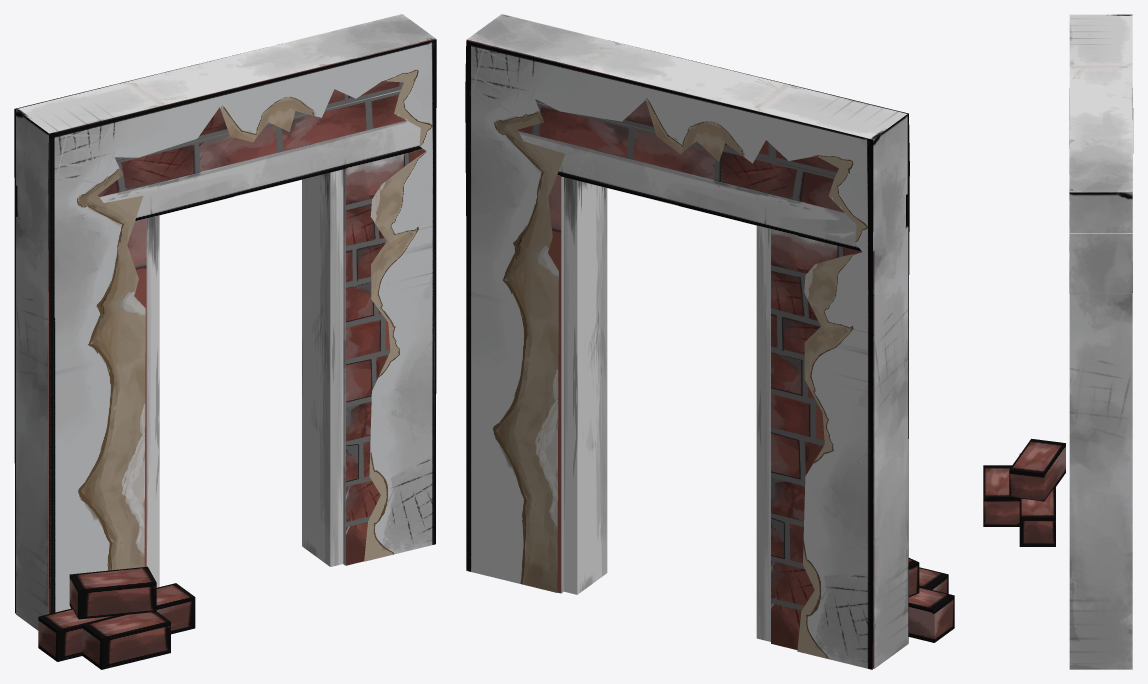
Rendered from Unfinished Archway.glb.
The picture shows the model from 3 angles, left to right: view 1: azimuth 30°, elevation 25°; view 2: azimuth 150°, elevation 25°; view 3: azimuth 270°, elevation 25°; orthographic projection. The views are drawn at different scales.
Parts seen in each view (by area): view 1: Unfinished Archway; view 2: Unfinished Archway; view 3: Unfinished Archway.
Boxes of the visible parts, <box> form: Unfinished Archway: <box>14,14,436,669</box>; Unfinished Archway: <box>465,14,954,669</box>; Unfinished Archway: <box>983,14,1133,669</box>.
Bounding box in the file's own units: 17.26 × 20.55 × 5.85.
1 material, 1 textured.
